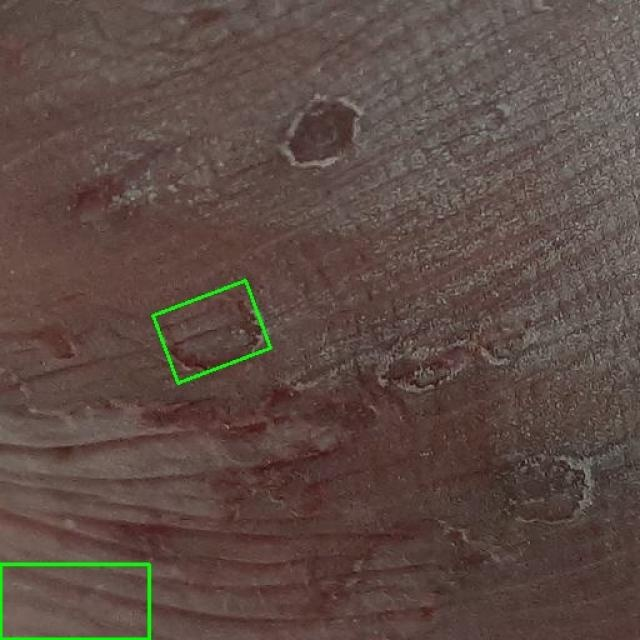Contact Dermatitis: (153, 281, 271, 383), (0, 564, 149, 639)
